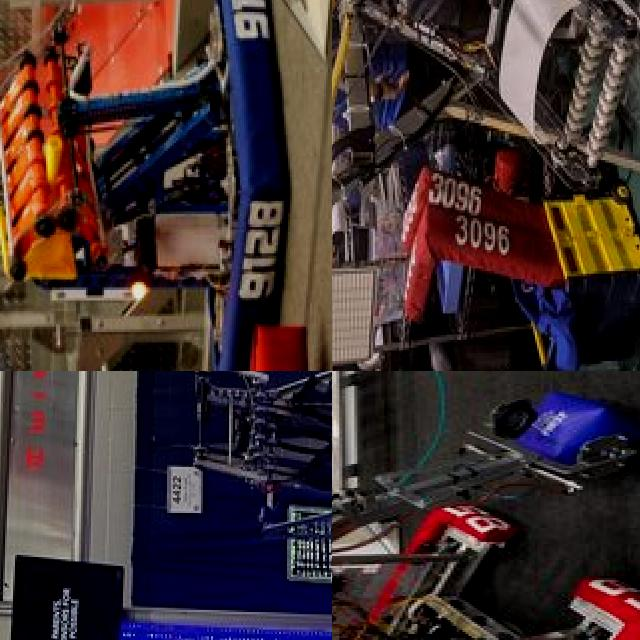FRC-Robots: (0, 0, 287, 371), (332, 394, 640, 640), (332, 0, 640, 233), (180, 371, 332, 547)
